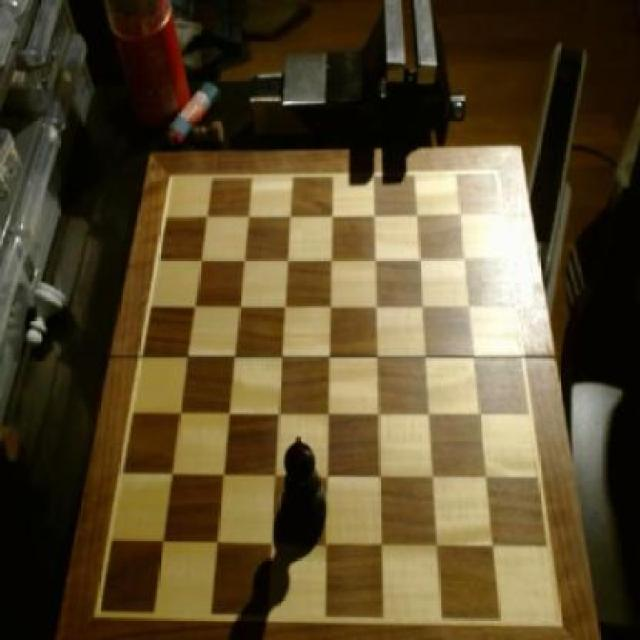black-bishop: (275, 436, 330, 550)
